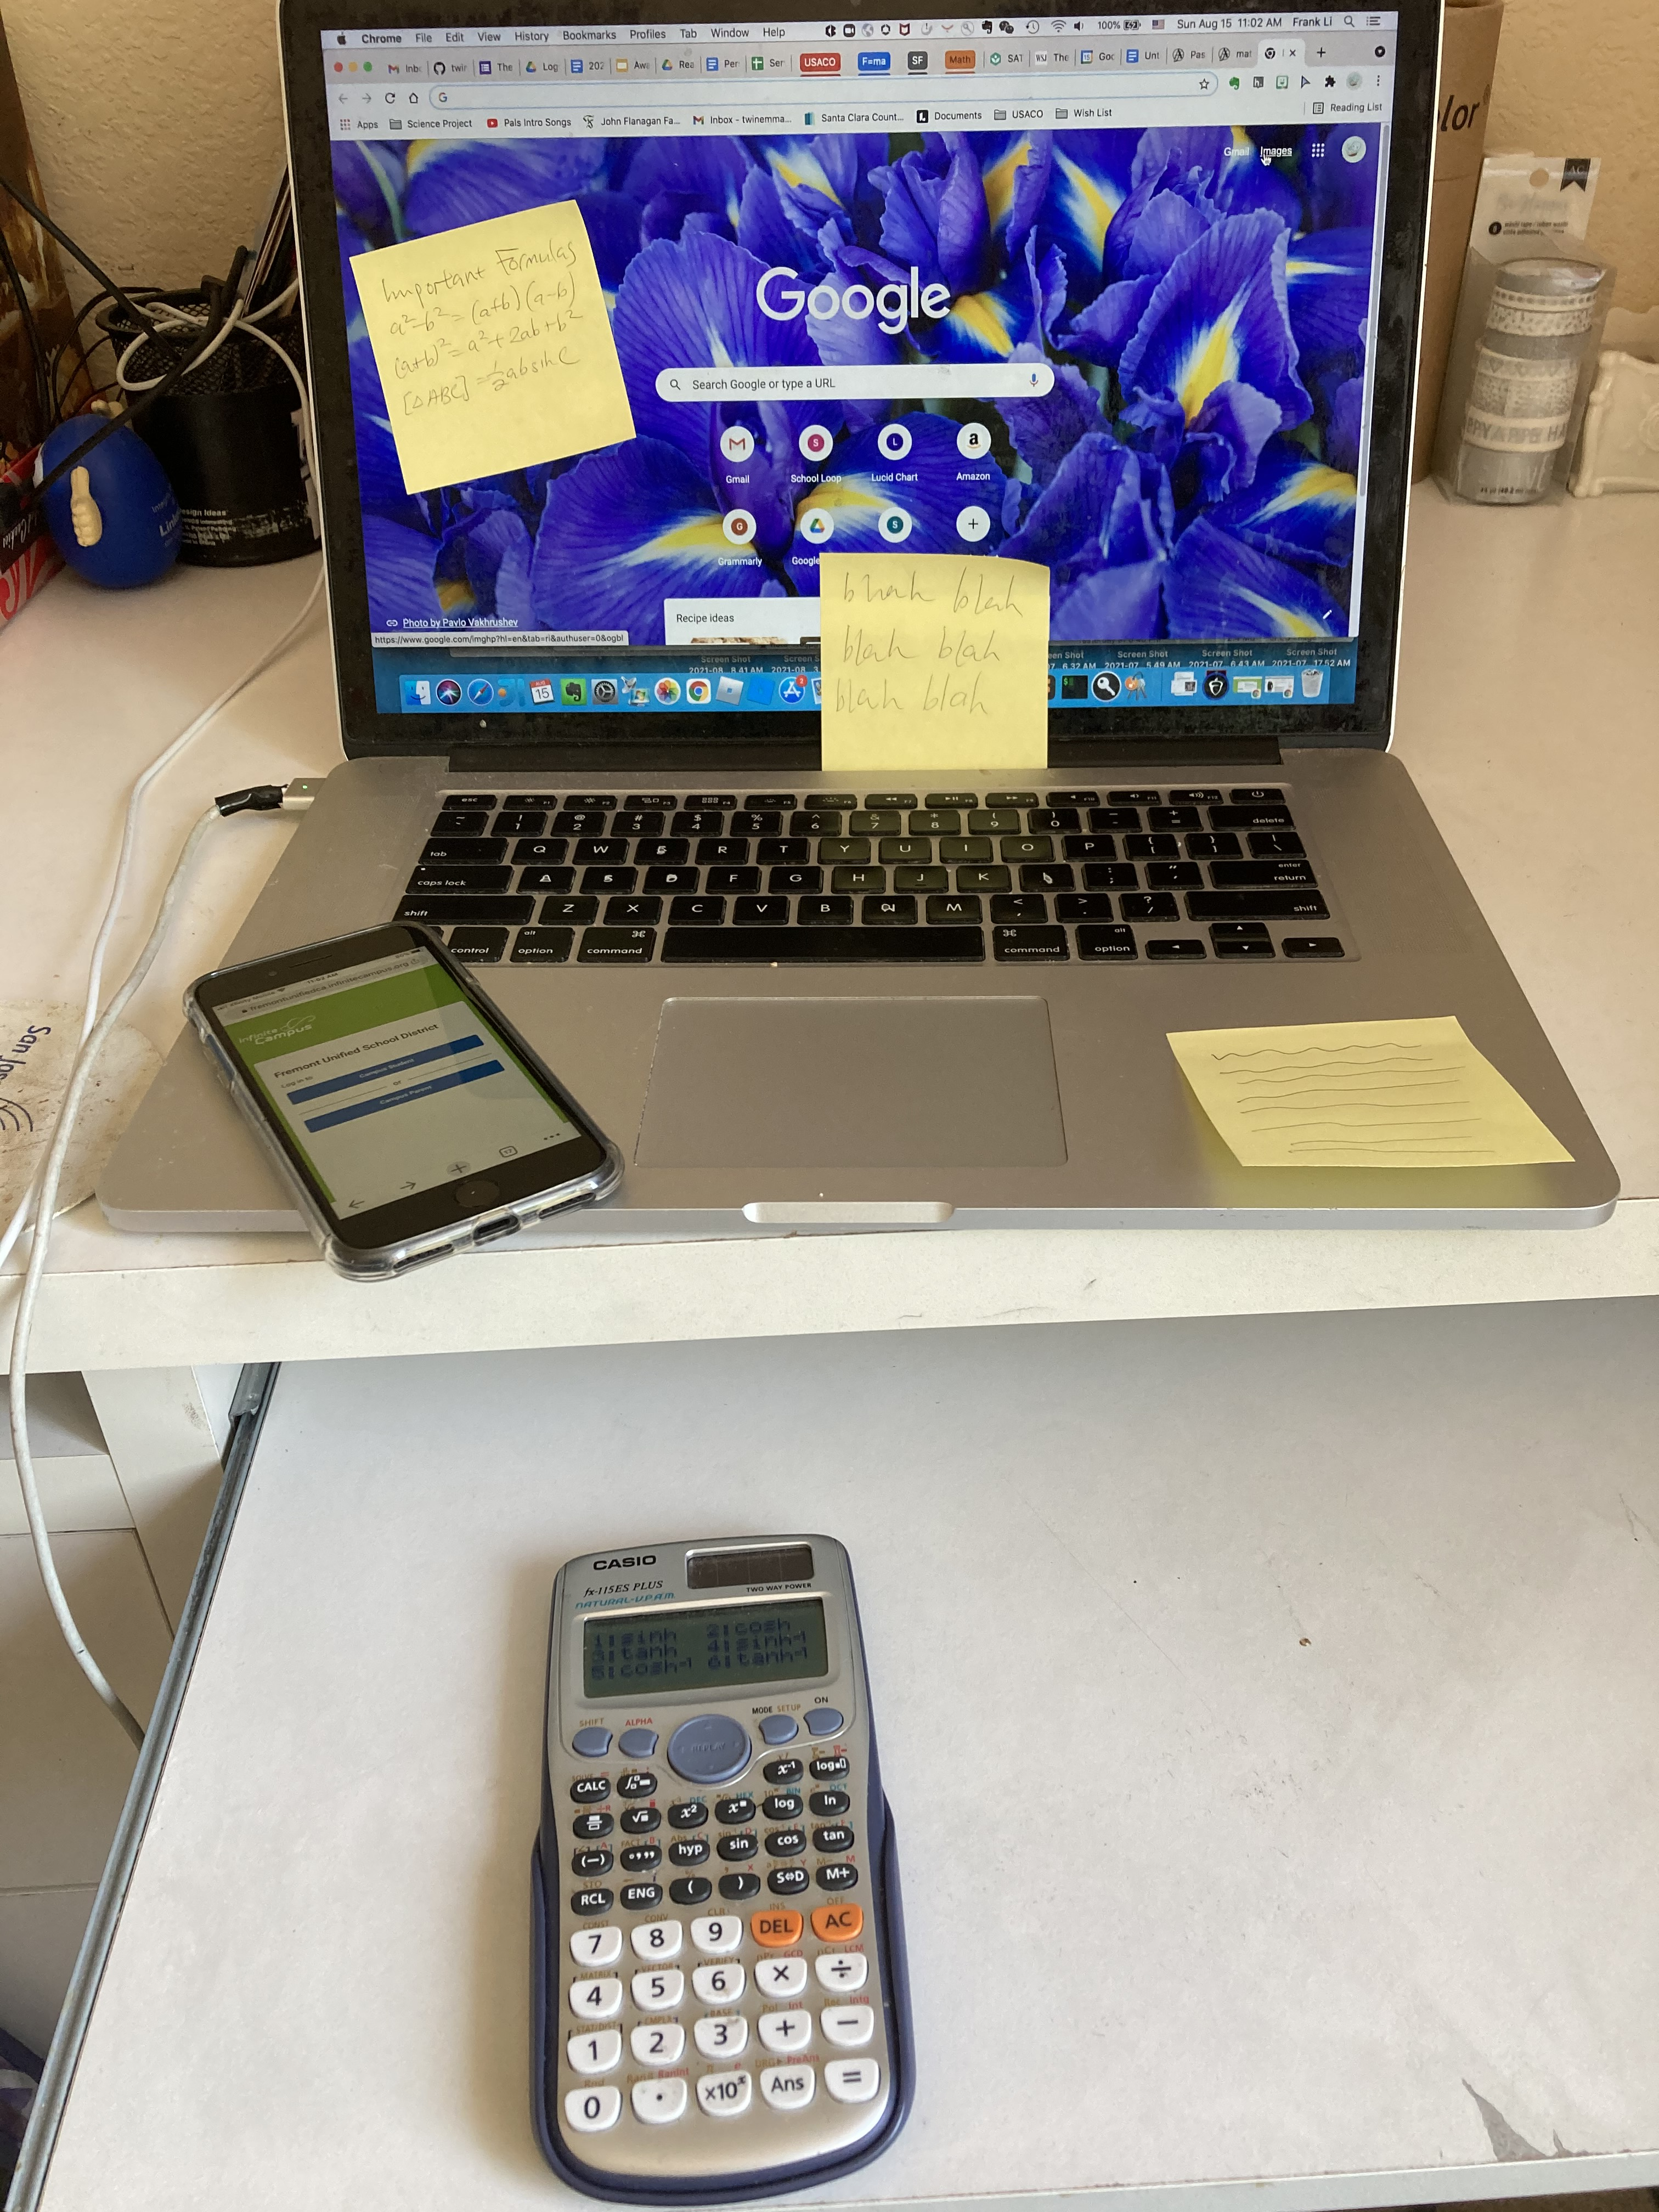Calculator: (542, 1538, 913, 2177)
Cell Phone: (204, 942, 615, 1264)
Note: (354, 218, 652, 488), (1169, 1014, 1575, 1186), (807, 547, 1073, 775)
